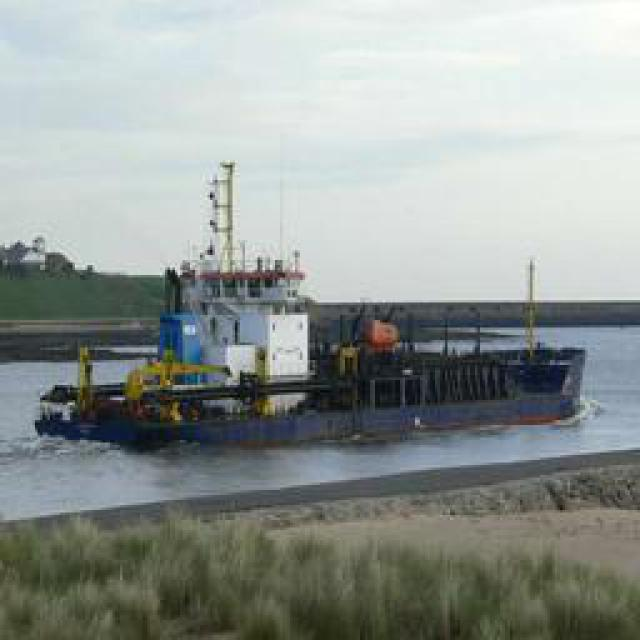Ship: (34, 147, 584, 455)
